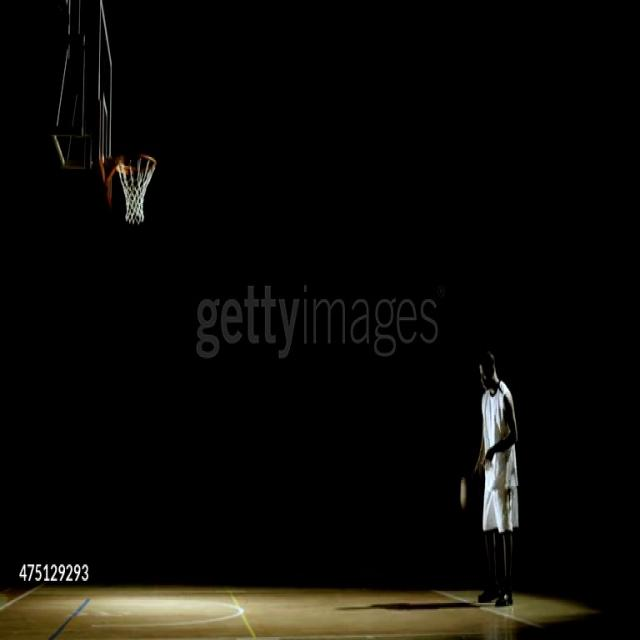ball: (456, 476, 476, 511)
